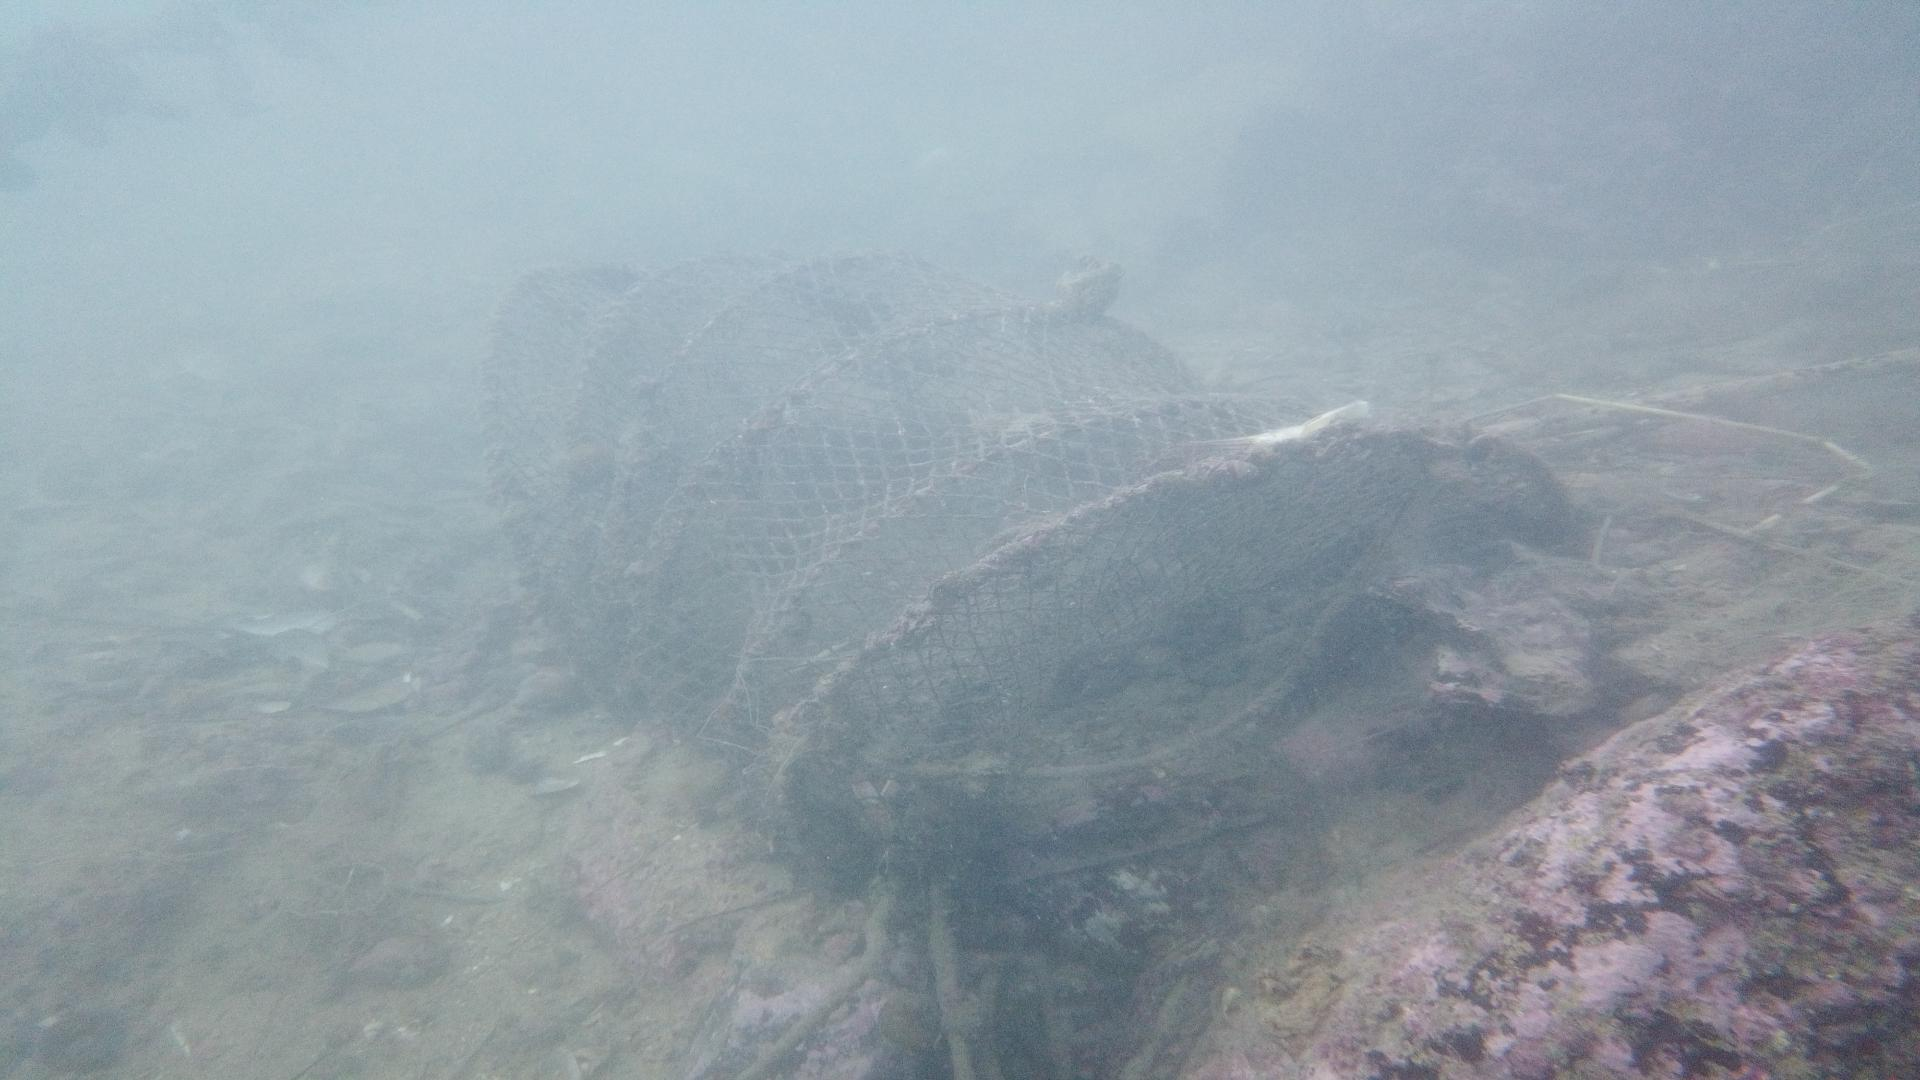spring fish trap: (473, 244, 1582, 922)
